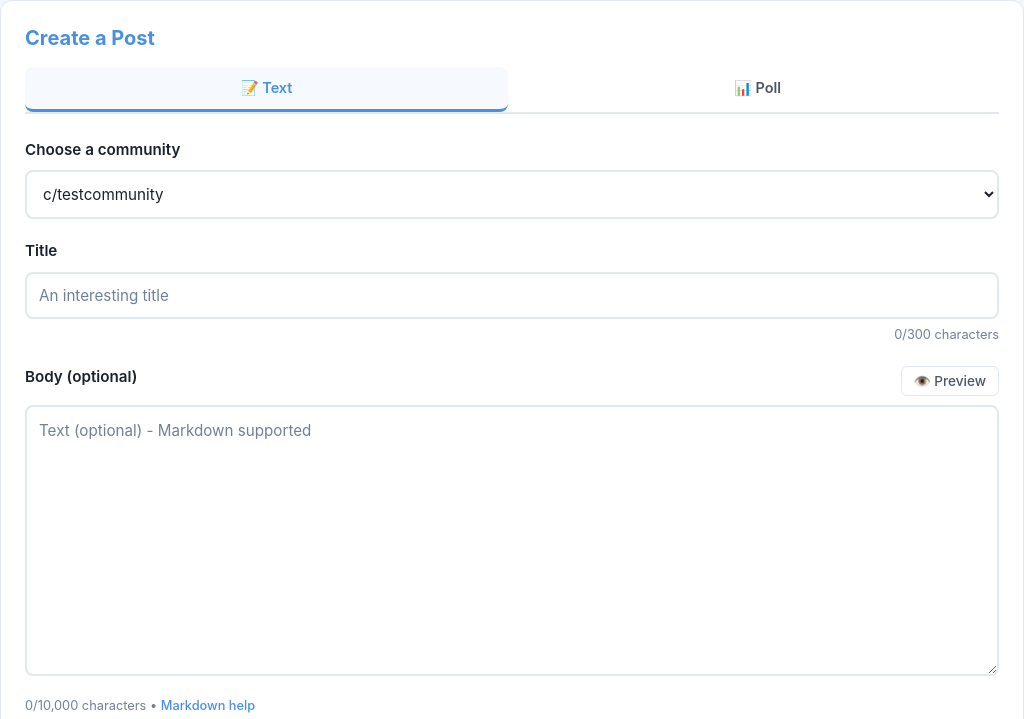
it: CreatePostForm Component › should show poll options when poll tab is selected
The width and height of the screenshot is (1024, 719).
Click the button "📊 Poll". click: point(758, 90)
box: 516,67 -> 999,112
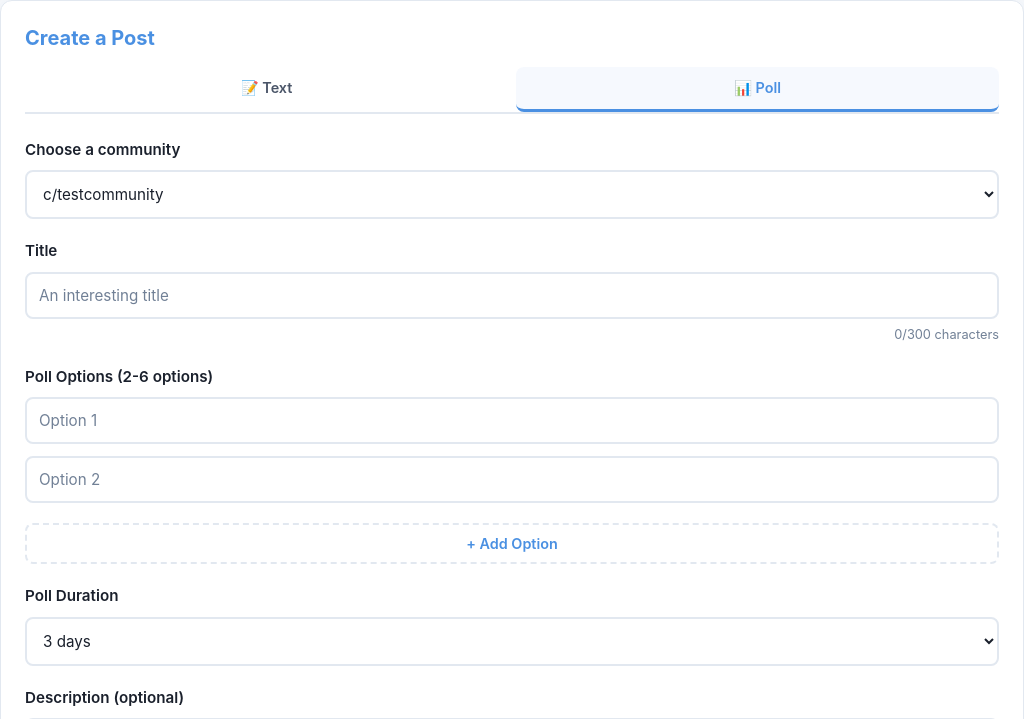
Expected: the field with placeholder "Option 1" is shown, 25,397 -> 999,444
Expected: the field with placeholder "Option 2" is shown, 25,456 -> 999,503
Expected: the button "+ Add Option" is shown, 25,523 -> 999,564
